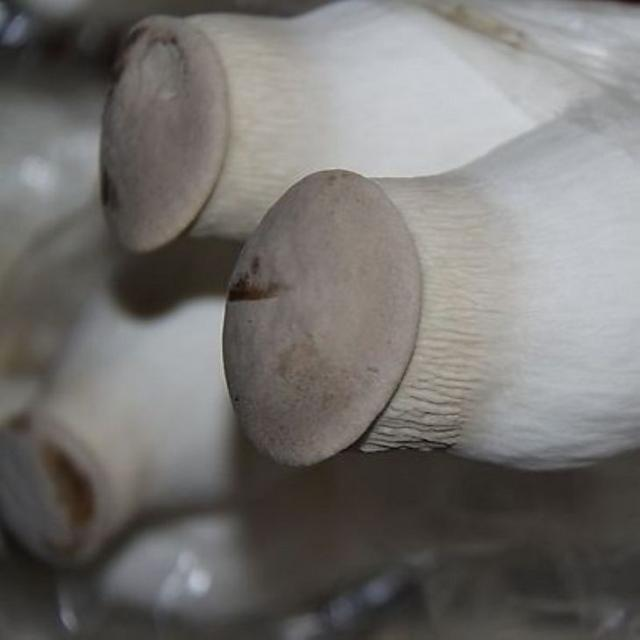Pleurotus eryngii: (221, 90, 640, 474), (104, 0, 640, 251)
